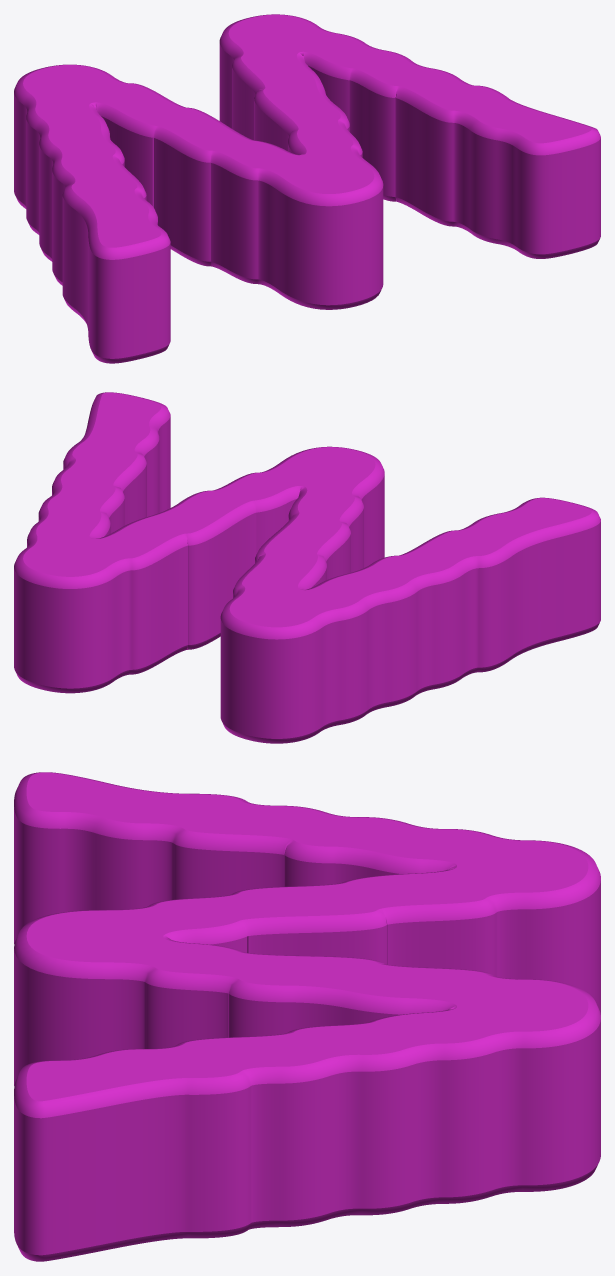
Rendered from Blocky_Letter_w.fbx.
3 views of the same model, one above another, from view 1: azimuth 30°, elevation 25°; view 2: azimuth 150°, elevation 25°; view 3: azimuth 270°, elevation 25° (orthographic). The views are drawn at different scales.
Parts seen in each view (by area): view 1: BlockyLetter_w; view 2: BlockyLetter_w; view 3: BlockyLetter_w.
Part boxes in pixels (box(x1,y1,x2,y2)): BlockyLetter_w: box(14, 14, 600, 363); BlockyLetter_w: box(14, 392, 600, 743); BlockyLetter_w: box(14, 772, 600, 1261).
Size of the model in its own units: 0.6374 by 0.14 by 0.4657.
